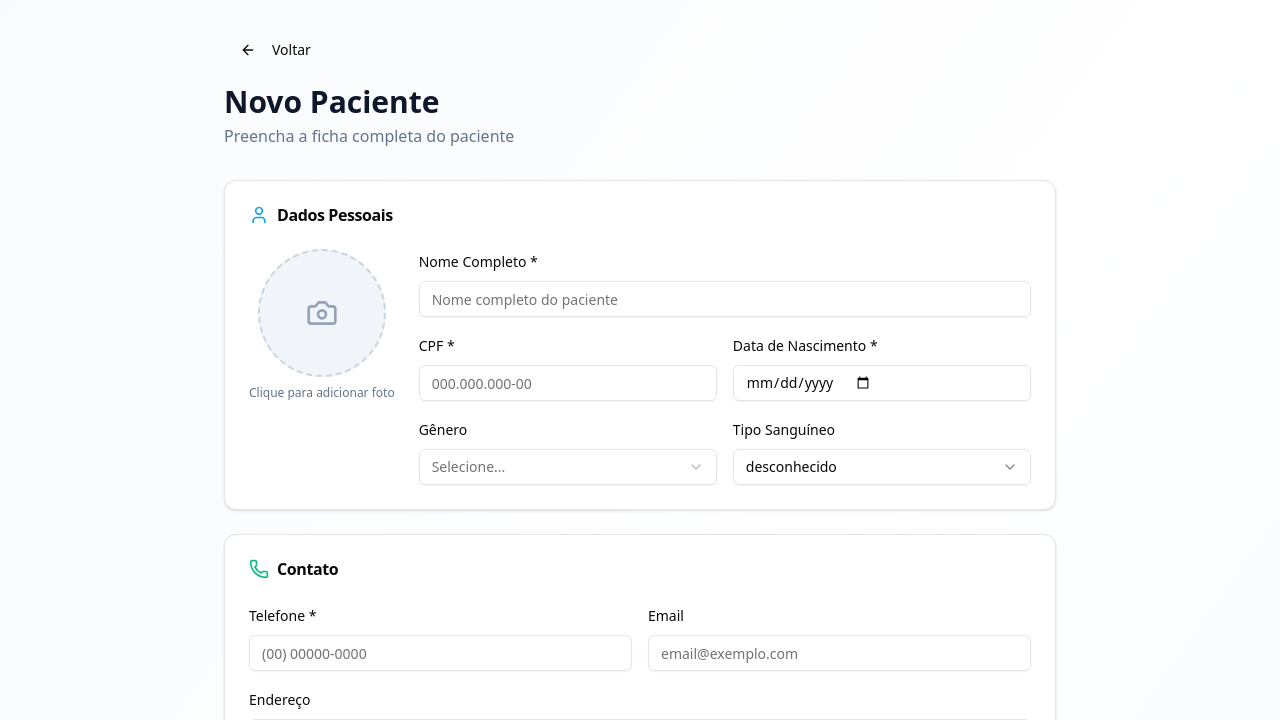
Test case: PatientForm › blocks saving a new patient and opens the LGPD term without consent
This screenshot has width=1280, height=720.
Type "Carla Mendes" into the field with placeholder "Nome completo do paciente" at (725, 299), box [419,281,1031,317]
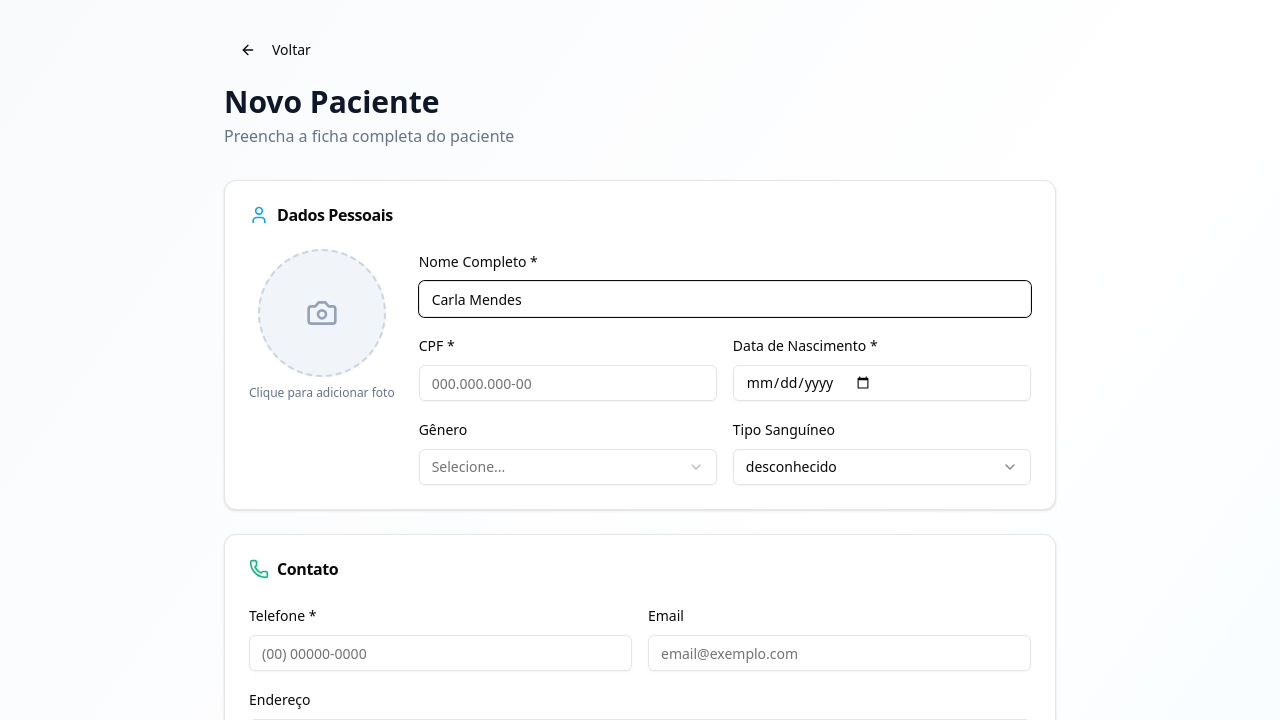
Type "12345678900" into the field with placeholder "000.000.000-00" at (568, 383), box [419,365,717,401]
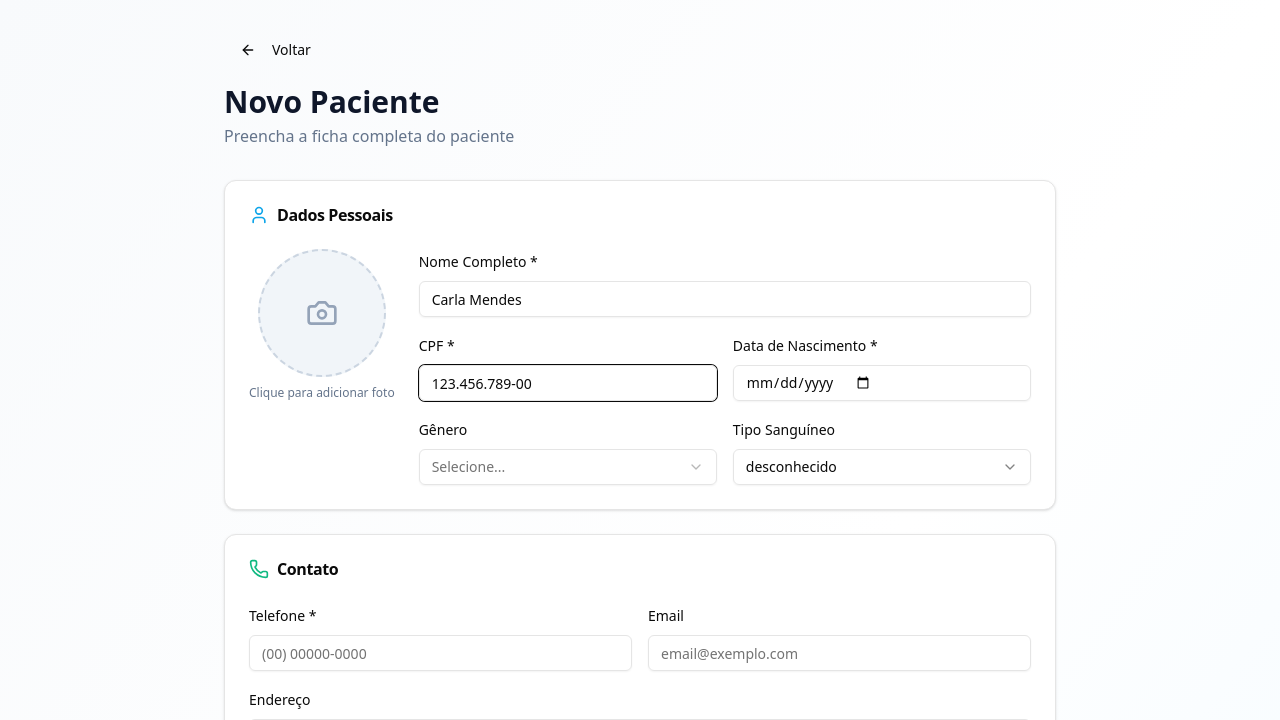
Type "1990-05-10" into the date field at (882, 383), box [733,365,1031,401]
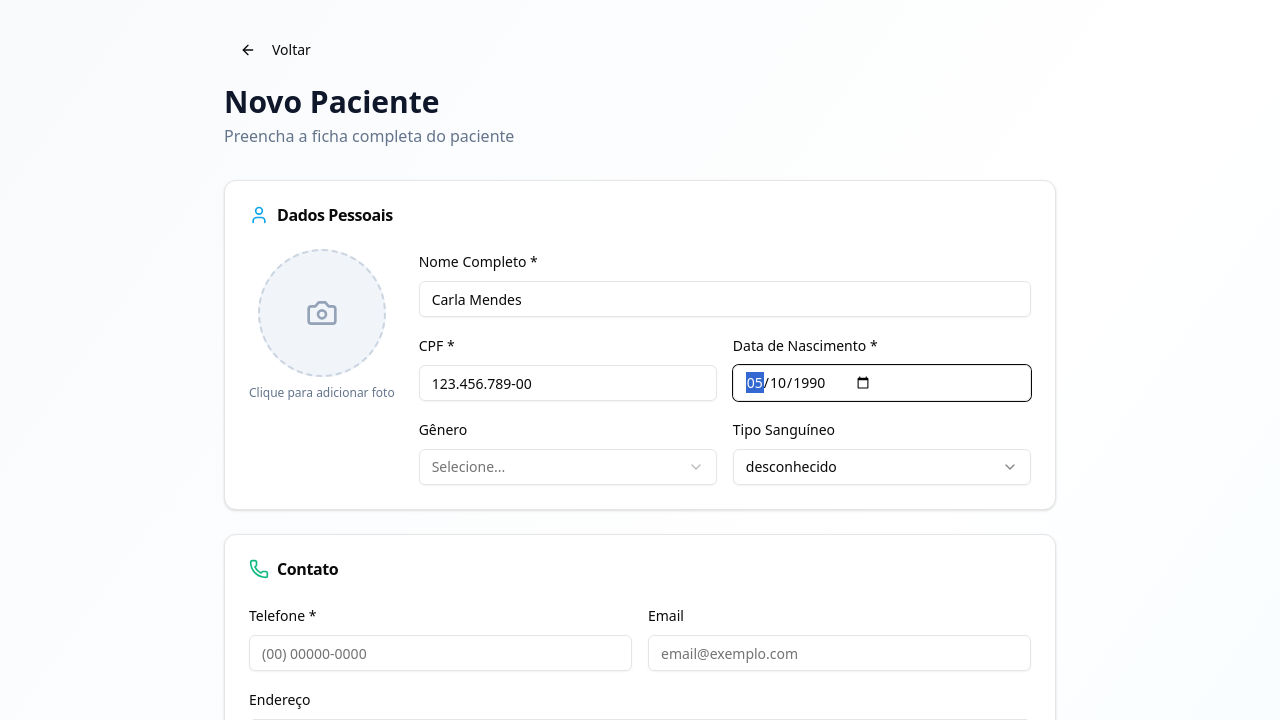
Type "11999998888" into the field with placeholder "(00) 00000-0000" at (440, 653), box [249,635,632,671]
(page scrolled)
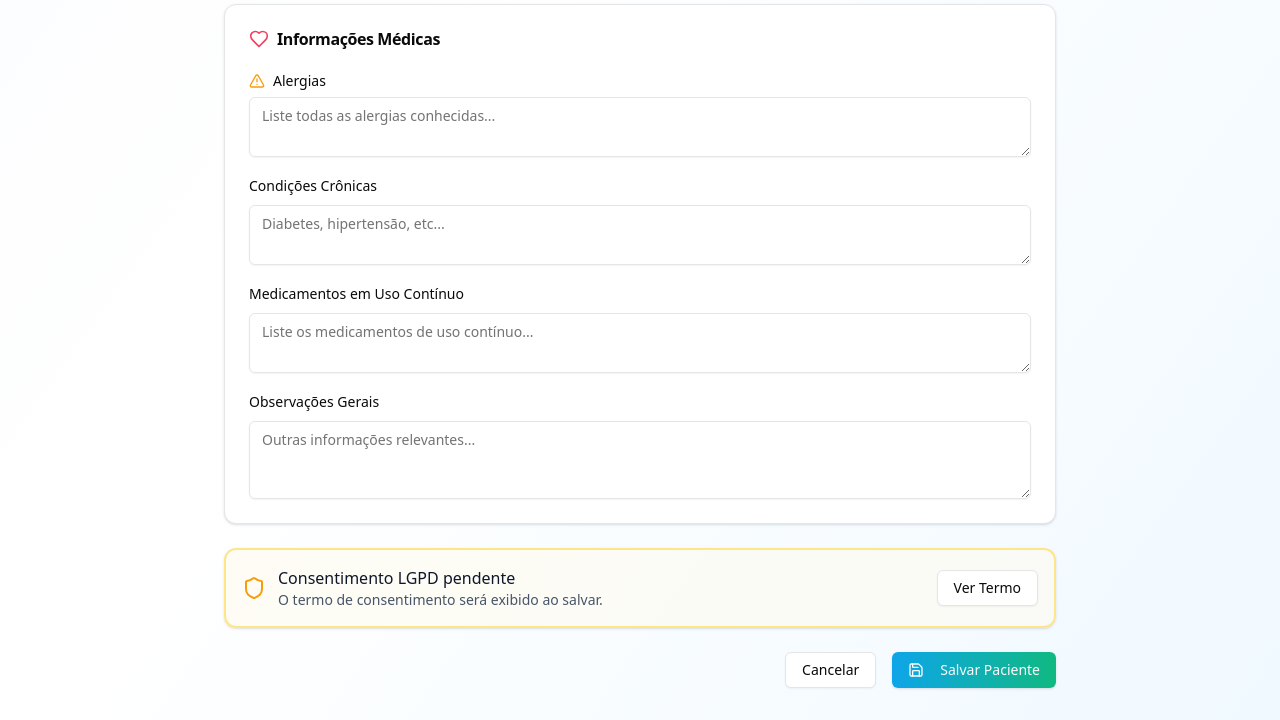
Click the button "Salvar Paciente" at (974, 670), box [892,652,1056,688]
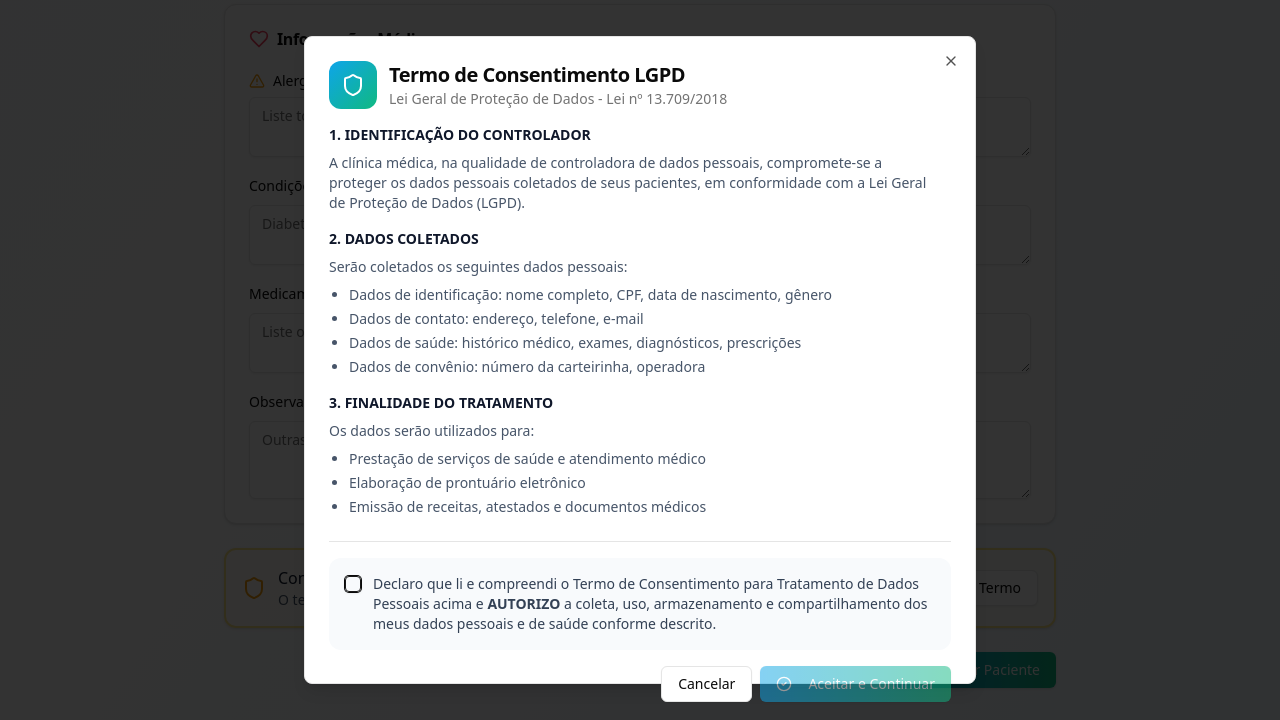
Result: the dialog shows "Termo de Consentimento LGPD" at [389,61,685,88]
